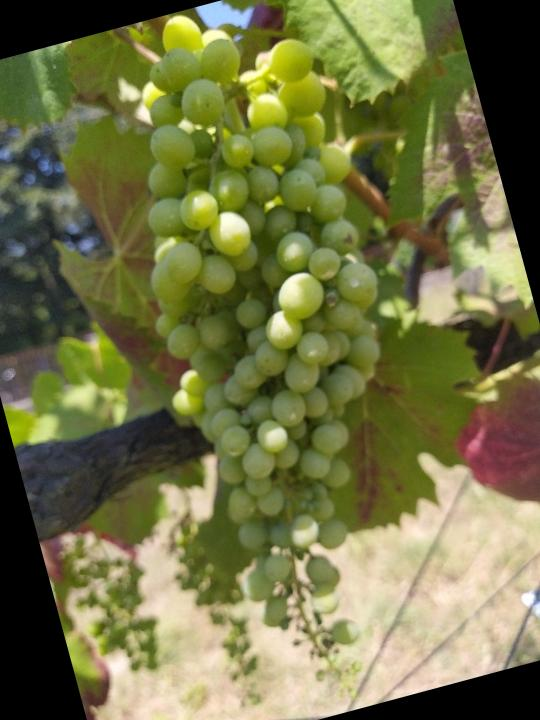grape: (73, 0, 489, 720)
